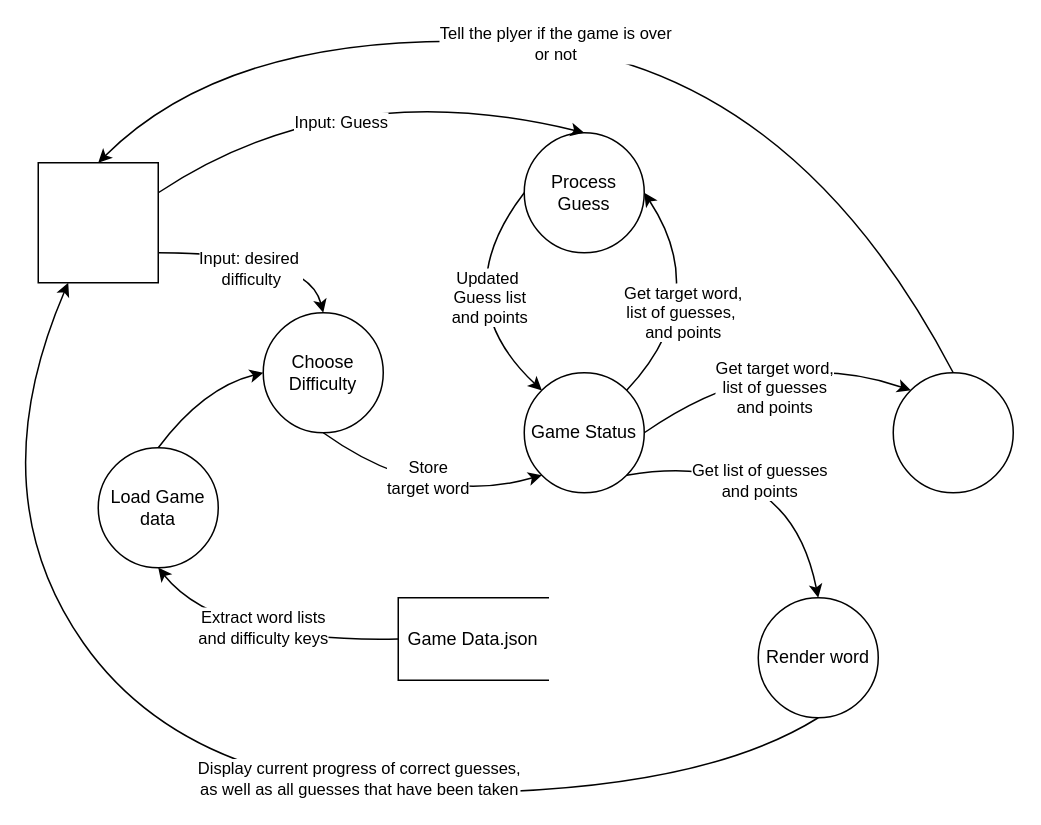
The diagram is 1041 pixels wide and 825 high, and some of its shapes have lost their labels. The shapes that lost their labels are listed below. From the top down, each one's centre as x and y in pixels, then its label:
At [97,222]: "Player".
At [952,432]: "Check for end".
